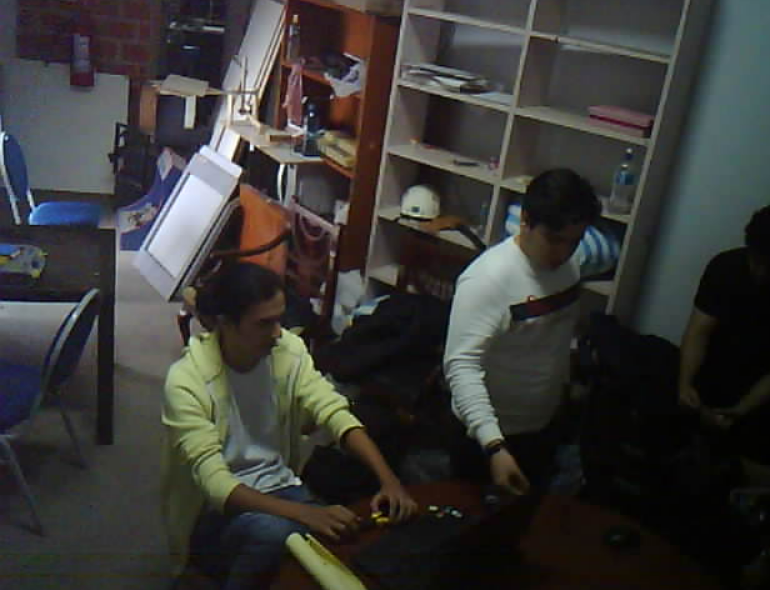person: (132, 241, 440, 590), (400, 106, 617, 558), (671, 165, 770, 544)
